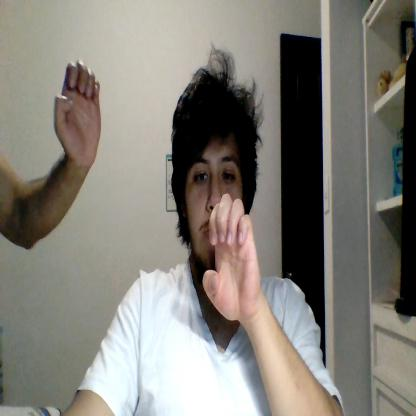E: (202, 193, 261, 322), (53, 60, 102, 167)
